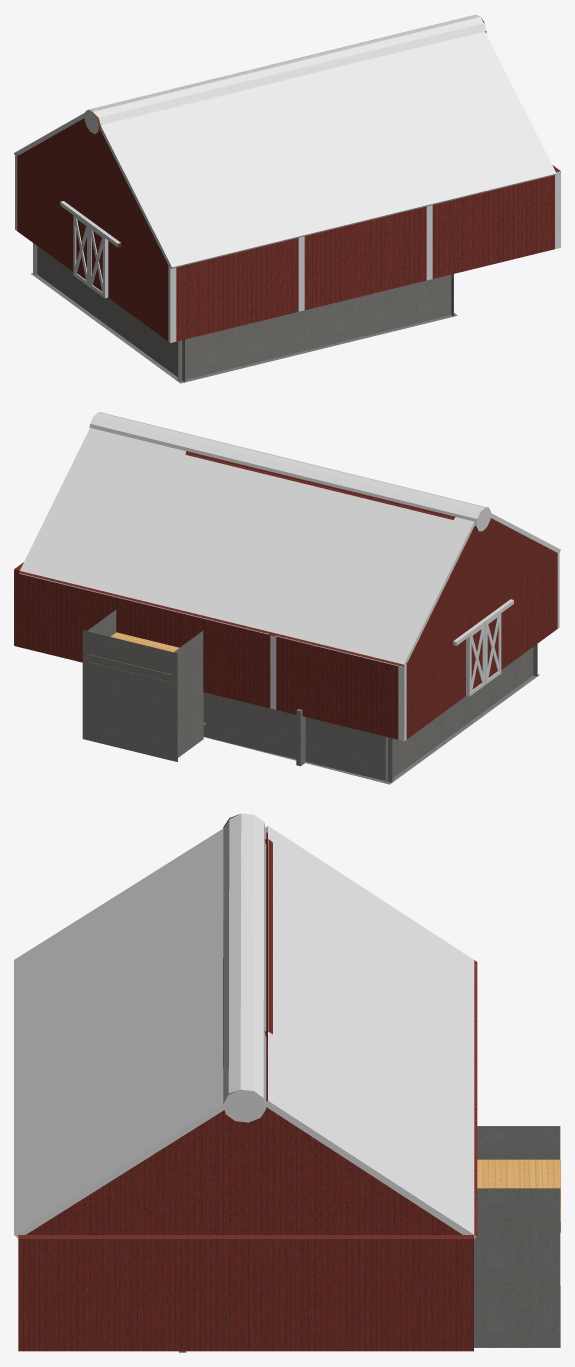
File: Farm.fbx
The picture shows the model from 3 angles, top to bottom: view 1: azimuth 30°, elevation 25°; view 2: azimuth 150°, elevation 25°; view 3: azimuth 270°, elevation 25°; orthographic projection. The views are drawn at different scales.
Parts seen in each view (by area): view 1: BarnOUTSIDE, BarnInside.034, BarnInside.035, BarnInside.036, BarnDoor.001, BarnDoor; view 2: BarnOUTSIDE, BarnInside.003, BarnInside.037, BarnInside.035, BarnInside.002, BarnDoor, BarnInside.041, BarnDoor.001, BarnInside.036, BarnInside.045, BarnInside.032; view 3: BarnOUTSIDE, BarnInside.033, BarnInside.009, BarnInside.002, BarnInside.032, BarnInside.041.
Part boxes in pixels (x1,y1,x2,y2): BarnOUTSIDE: (14, 14, 560, 342); BarnInside.034: (178, 274, 451, 381); BarnInside.035: (37, 246, 185, 382); BarnInside.036: (31, 273, 457, 383); BarnDoor.001: (89, 224, 108, 298); BarnDoor: (73, 213, 88, 286); BarnOUTSIDE: (14, 412, 560, 741); BarnInside.003: (82, 630, 177, 761); BarnInside.037: (206, 693, 392, 782); BarnInside.035: (385, 647, 533, 782); BarnInside.002: (174, 631, 203, 757); BarnDoor: (466, 623, 485, 696); BarnInside.041: (185, 451, 454, 519); BarnDoor.001: (485, 611, 501, 684); BarnInside.036: (204, 674, 539, 784); BarnInside.045: (296, 709, 305, 766); BarnInside.032: (87, 632, 179, 674); BarnOUTSIDE: (14, 813, 477, 1351); BarnInside.033: (474, 1268, 560, 1347); BarnInside.009: (474, 1188, 560, 1267); BarnInside.002: (477, 1126, 560, 1159); BarnInside.032: (477, 1159, 560, 1221); BarnInside.041: (268, 839, 272, 1034).
Size of the model in its own units: 31.6 by 17.24 by 25.92.
